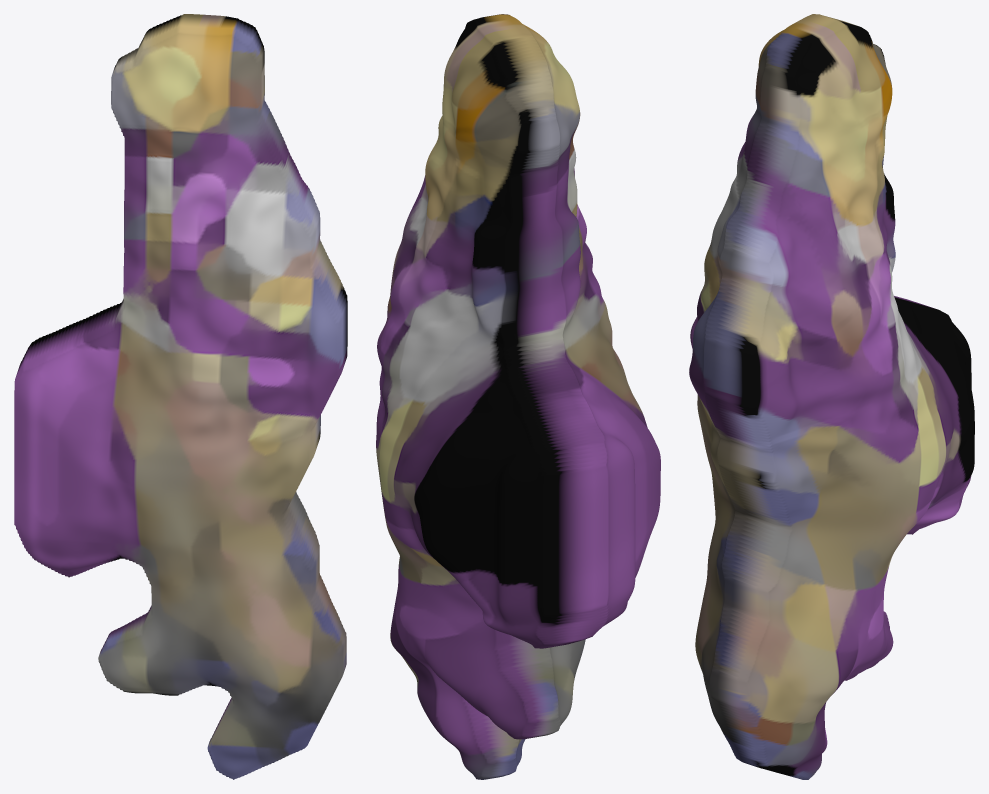
The model's file is yuri_engineer.glb.
3 renders of one model, left to right at view 1: azimuth 30°, elevation 25°; view 2: azimuth 150°, elevation 25°; view 3: azimuth 270°, elevation 25°, orthographic. The views are drawn at different scales.
Visible parts, largest first — view 1: yuri_engineer; view 2: yuri_engineer; view 3: yuri_engineer.
Part boxes in pixels (x1,y1,x2,y2): yuri_engineer: [14, 14, 347, 779]; yuri_engineer: [376, 14, 660, 779]; yuri_engineer: [689, 14, 974, 779].
Bounding box in the file's own units: 0.8407 × 2.23 × 0.7769.
